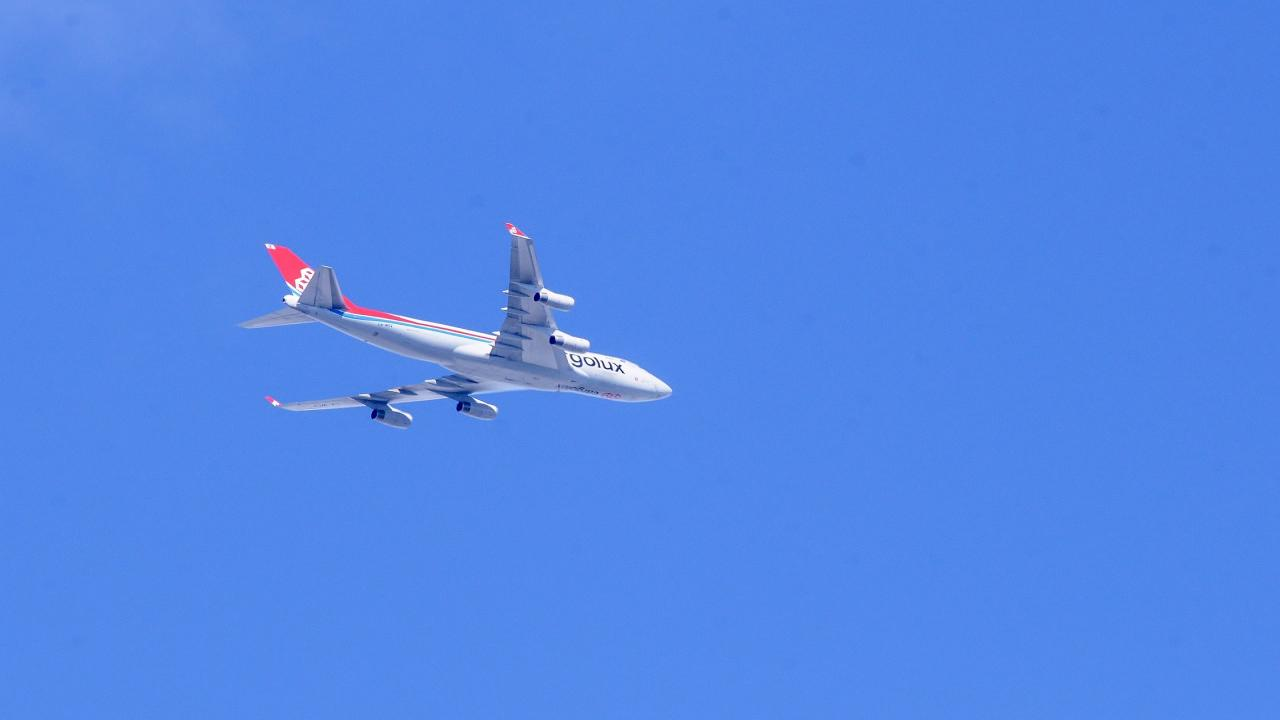Airplane: (221, 206, 690, 447)
